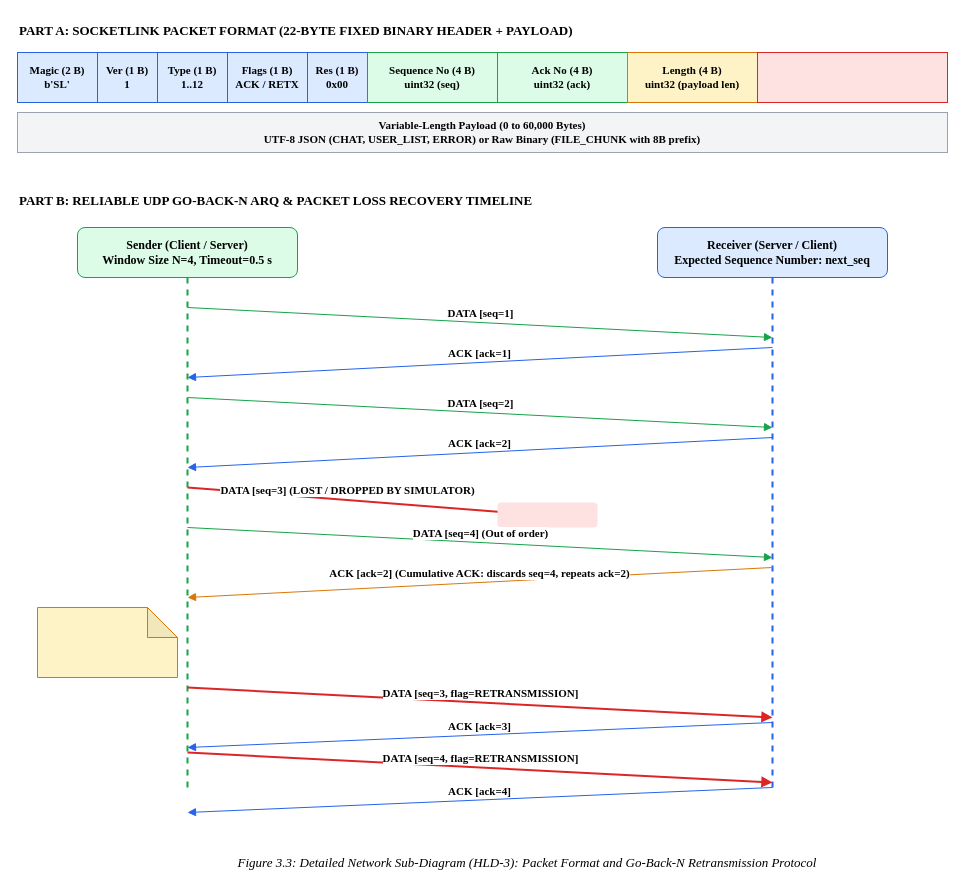
The diagram is 965 pixels wide and 894 high, and some of its shapes have lost their labels. The shapes that lost their labels are listed below. From the top down, each one's centre as x and y in pixels, then its label:
At pixel 852 77: "CRC32 Checksum (4 B) zlib.crc32(header[0:18] + payload)".
At pixel 547 514: "X (Packet Lost)".
At pixel 107 642: "Timer Expires (0.5 s) Go-Back-N resends window from base (seq=3)".
